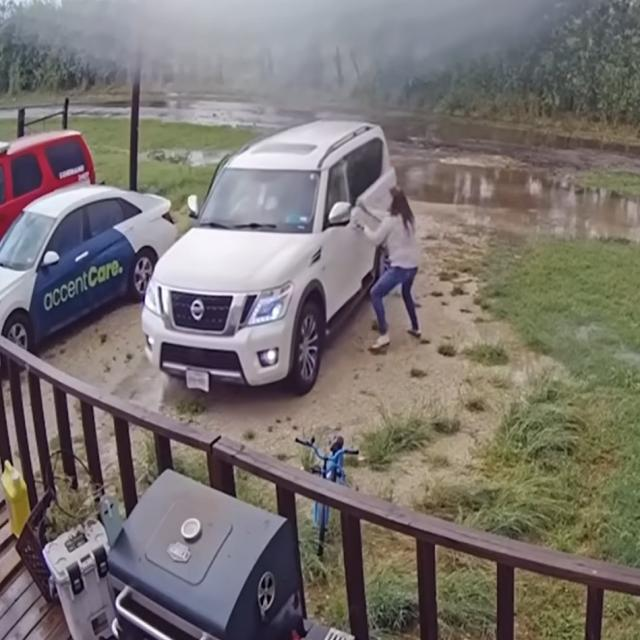standing: (358, 187, 419, 352)
